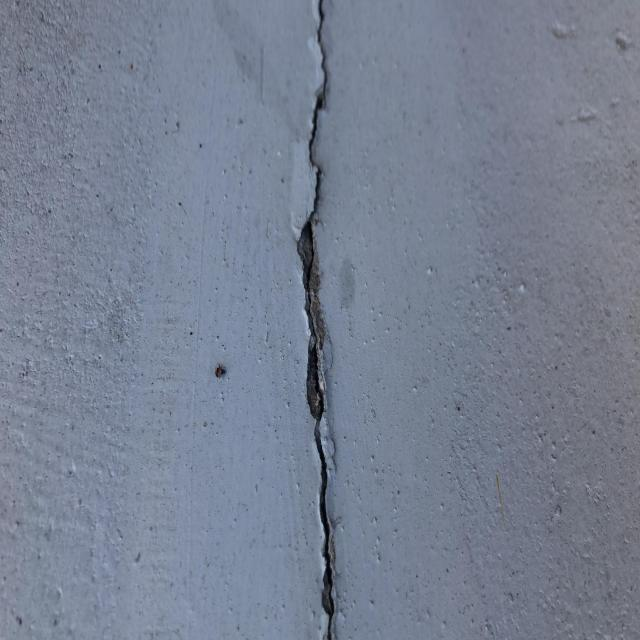SurfaceCrack: (250, 0, 390, 640)
